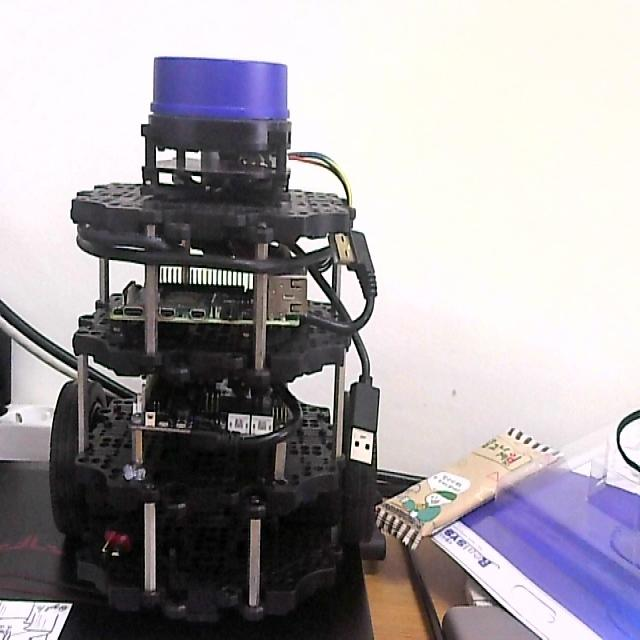turtle: (47, 54, 390, 632)
